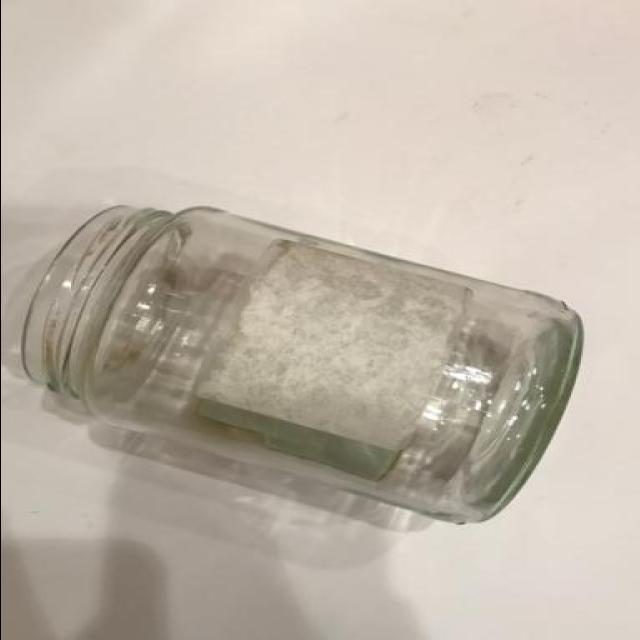Glass Bottle: (17, 202, 585, 528)
